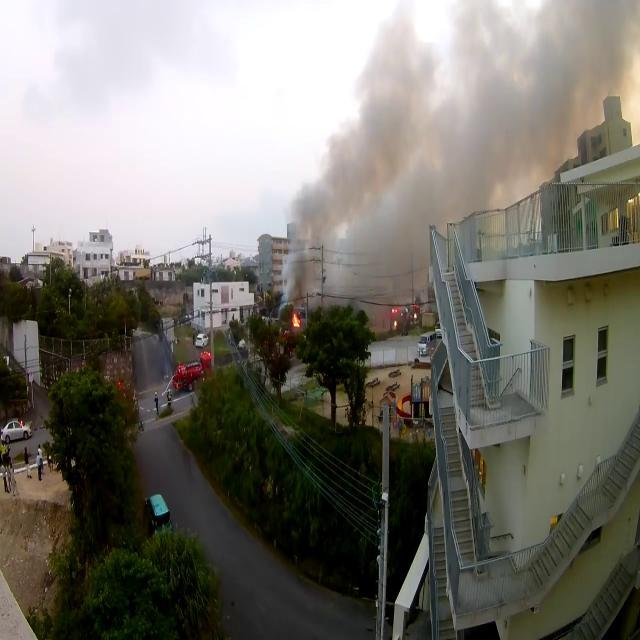Fire: (292, 311, 300, 329)
